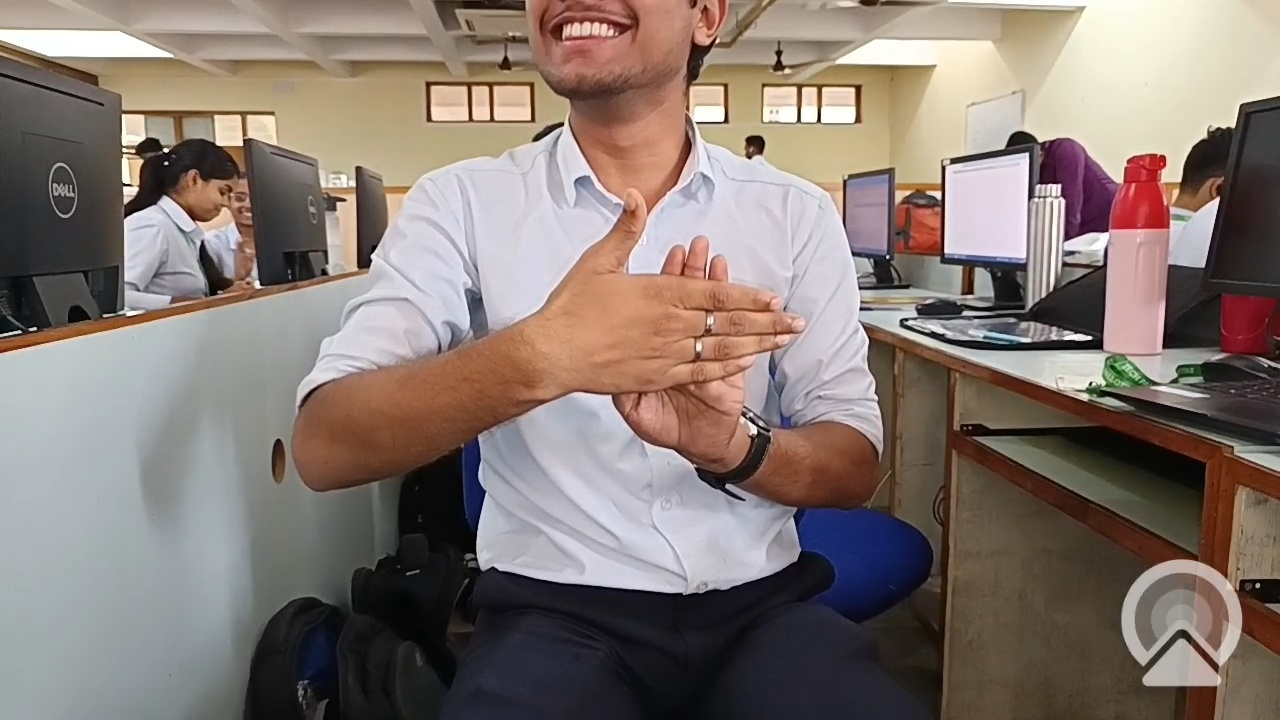W: (422, 168, 846, 505)
